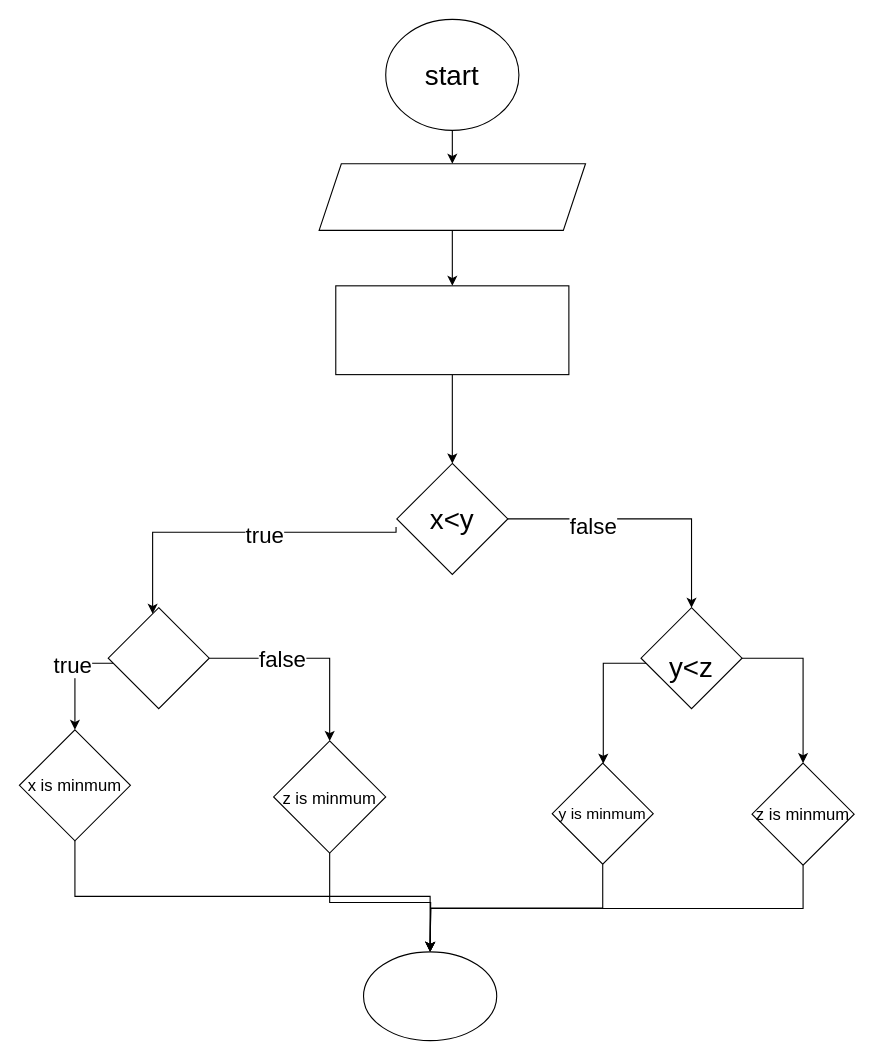
Image size: 874x1060. Some labels were removed from this diagram. The centre of each missing label's shape, as x and y in pixels:
daclared three variable: the point at 452,196
End: the point at 429,996
sum=x<y<z: the point at 452,330
x<z: the point at 158,658
